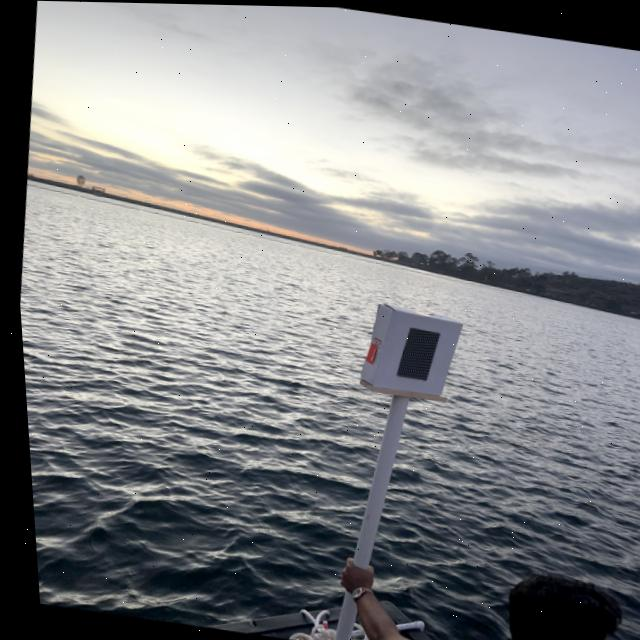led: (376, 311, 456, 410)
